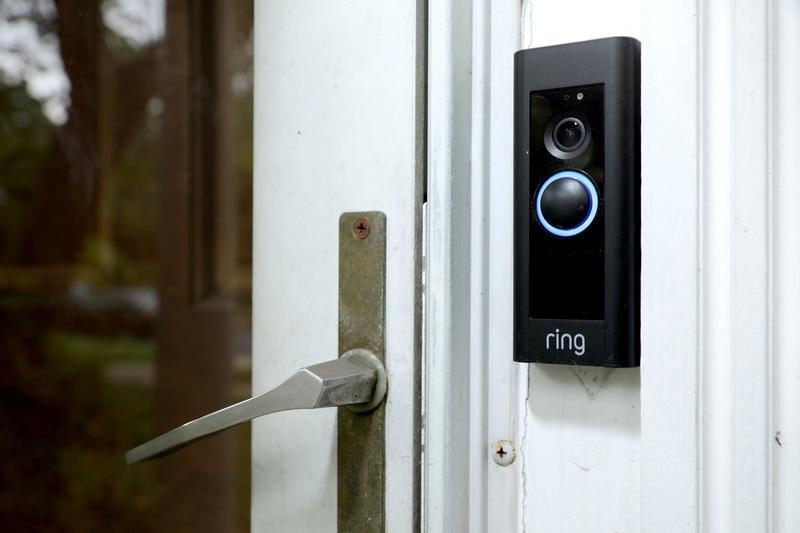doorbell: (507, 37, 651, 377)
